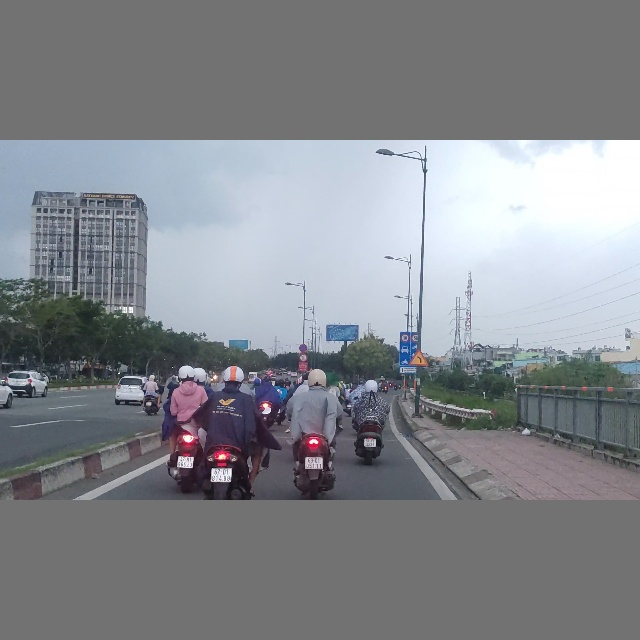P.111: (298, 353, 308, 362)
P.127*50: (400, 333, 409, 342)
P.130: (299, 343, 308, 353)
W.201a: (410, 348, 429, 367)
